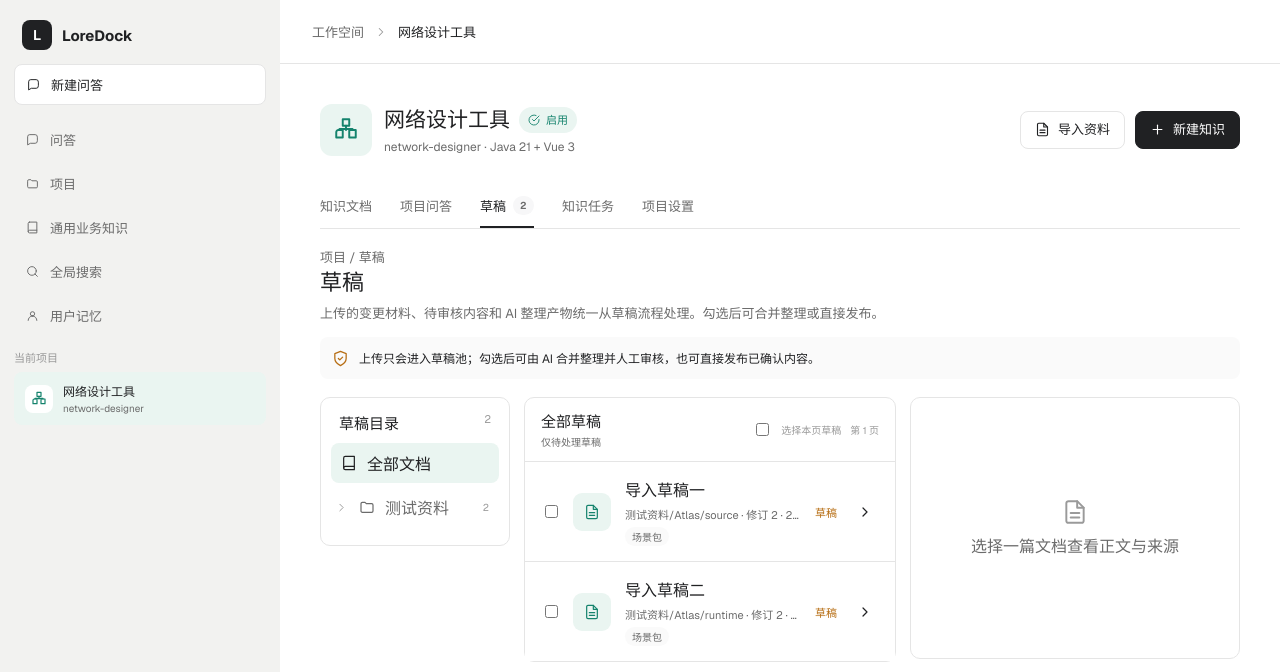
Test: KnowledgeWorkspaceView › browses and selects administrator draft subtrees with both processing actions
What coordinates should you click on to do the following:
click the button "测试资料 2"
I would click on:
 (425, 507)
Its box is [351, 487, 499, 527].
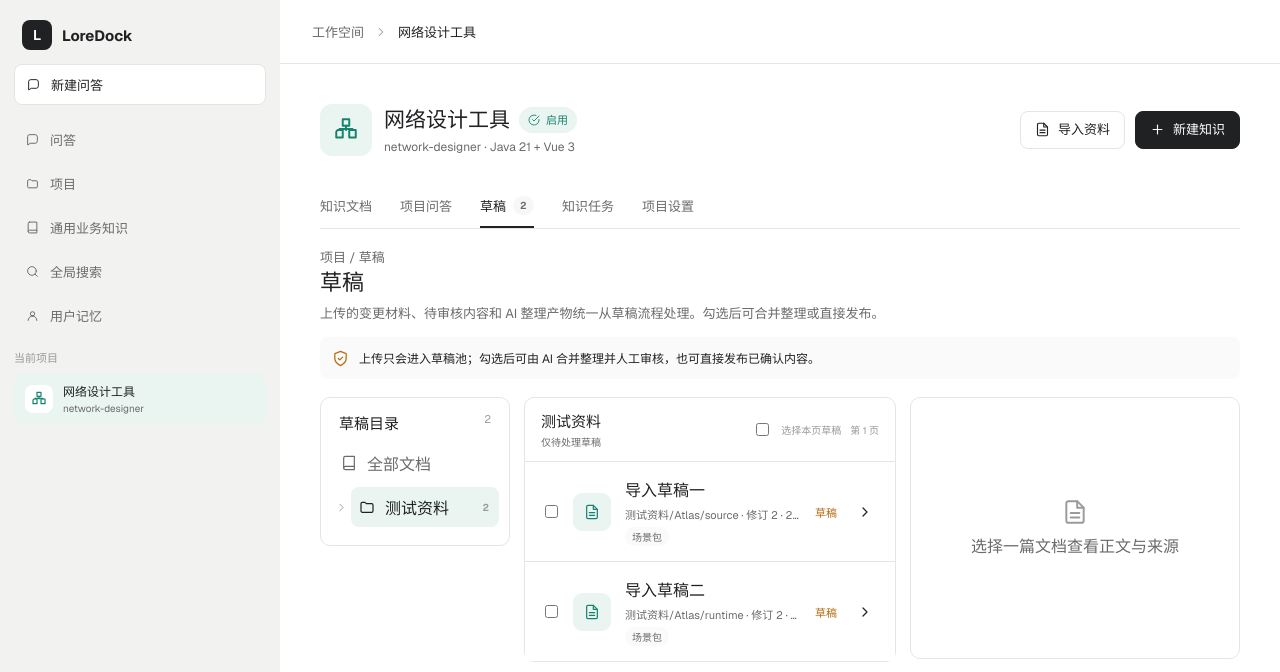
What coordinates should you click on to do the following:
click the checkbox with test id "select-all-drafts"
I would click on:
 (763, 430)
Its box is [756, 423, 769, 436].
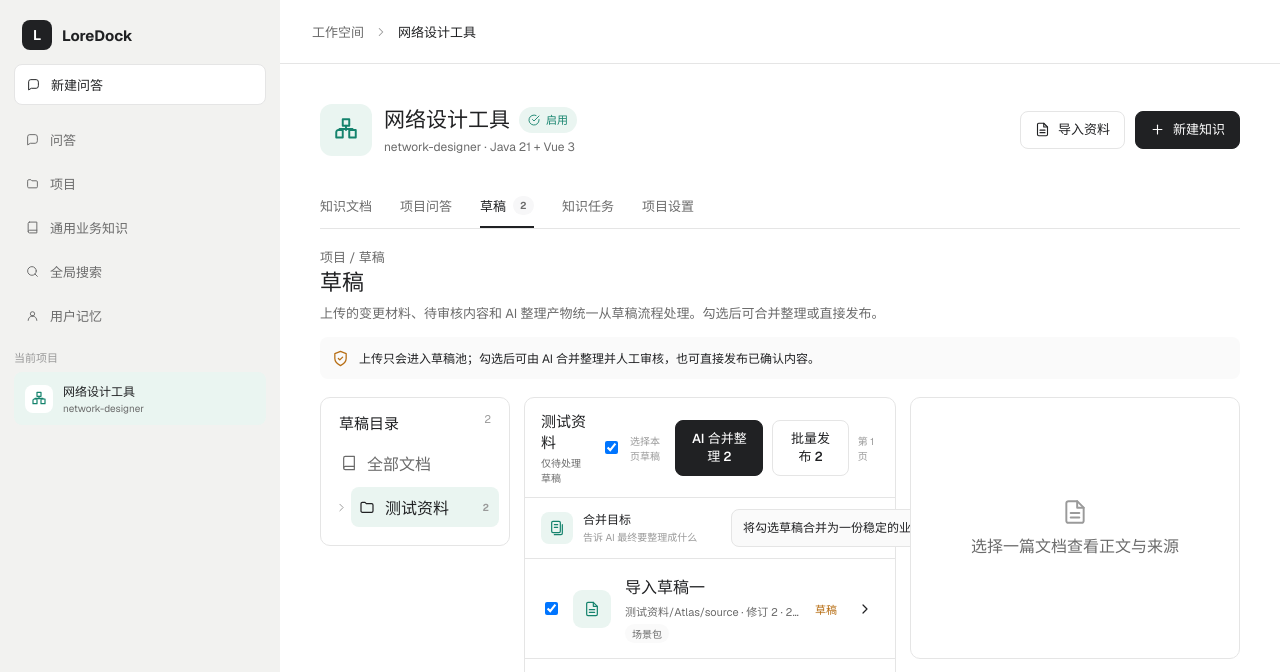
Expected: the button with test id "merge-selected-drafts" reads "AI 合并整理 2", [675, 420, 763, 476]
Expected: the button with test id "batch-publish" reads "批量发布 2", [772, 420, 849, 476]
